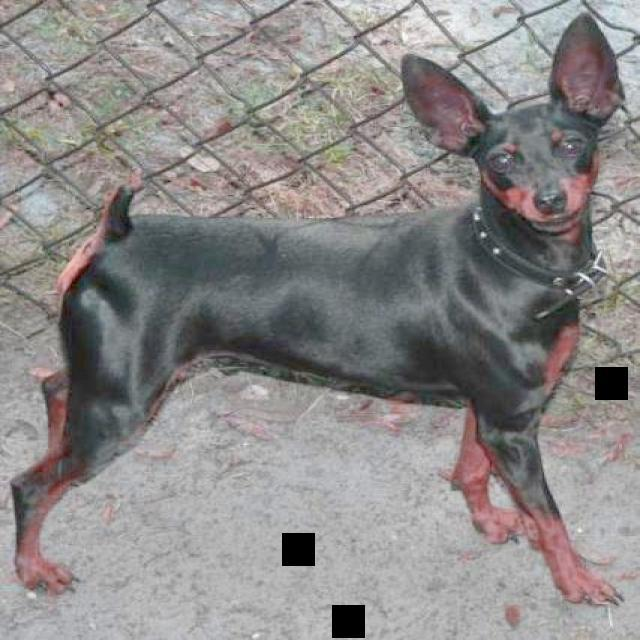adult_dog: (8, 8, 631, 608)
